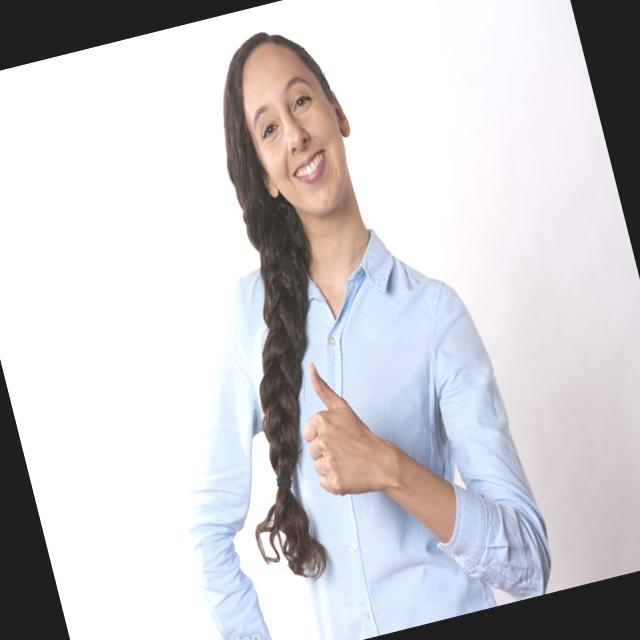Hand: (282, 348, 380, 510)
